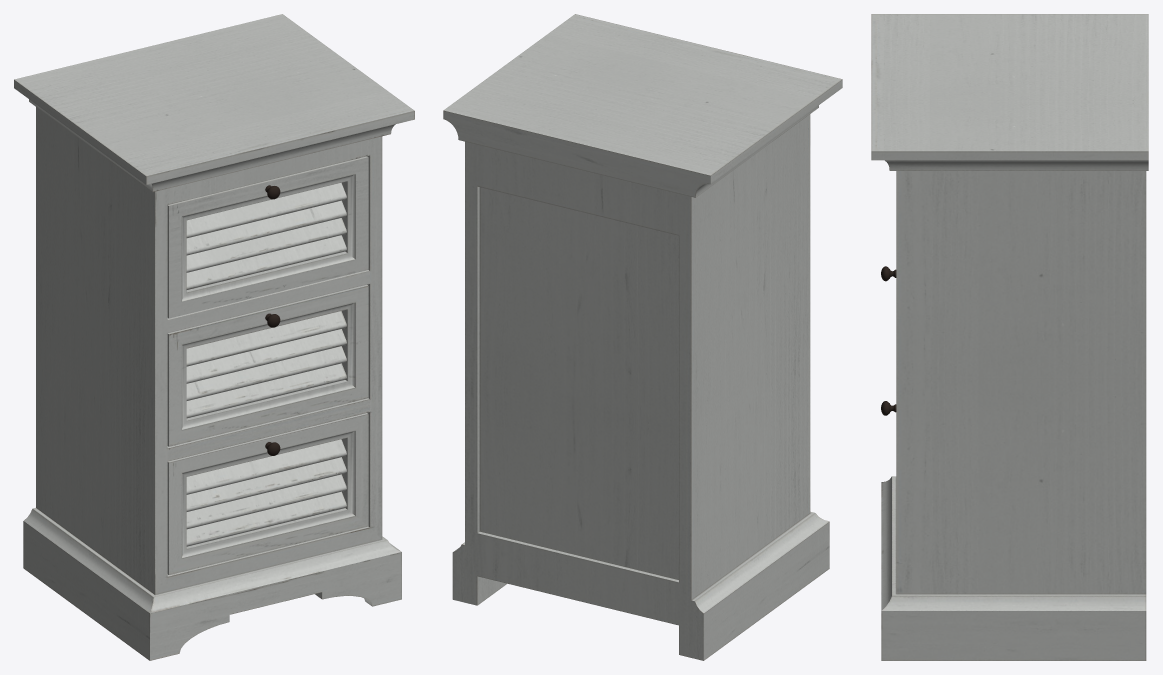
Rendered from W32 - A07600 - Sketchfab - mesh.obj.
3 views of the same model, side by side, from view 1: azimuth 30°, elevation 25°; view 2: azimuth 150°, elevation 25°; view 3: azimuth 270°, elevation 25° (orthographic). The views are drawn at different scales.
Visible parts, largest first — view 1: A076; view 2: A076; view 3: A076.
Part boxes in pixels (left/top/right/bottom): A076: left=14, top=14, right=414, bottom=660; A076: left=443, top=14, right=842, bottom=660; A076: left=871, top=14, right=1148, bottom=660.
Size of the model in its own units: 39 by 68 by 33.3.
1 material, 1 textured.
